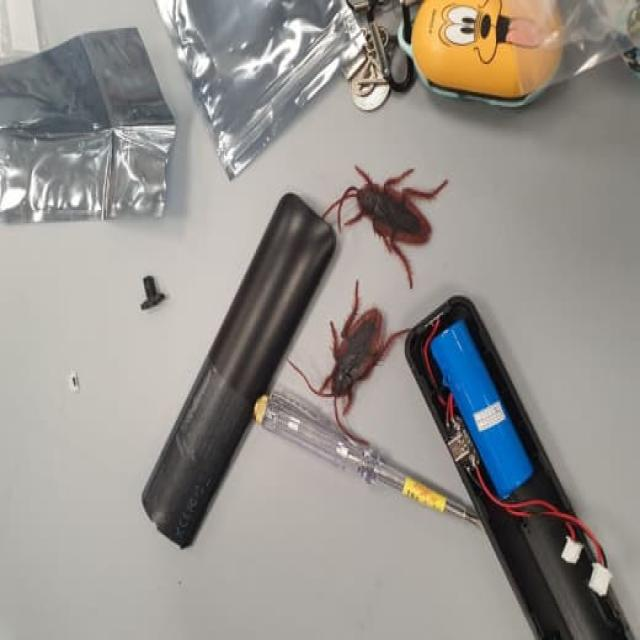Cockroach: (287, 274, 410, 456), (320, 152, 446, 298)
